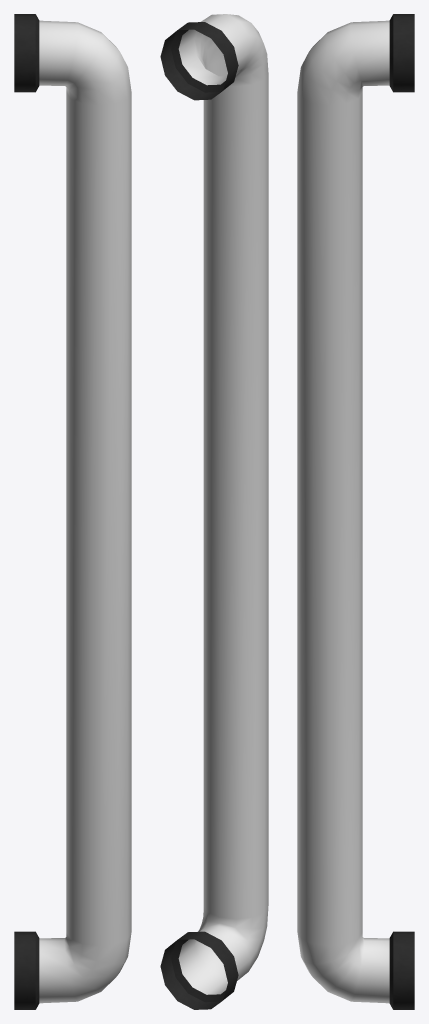
The model's file is LettersNeon01_I.FBX.
3 renders of one model, left to right at view 1: azimuth 90°, elevation 25°; view 2: azimuth 150°, elevation 25°; view 3: azimuth 270°, elevation 25°, orthographic.
Visible parts, largest first — view 1: LettersNeon01_I; view 2: LettersNeon01_I; view 3: LettersNeon01_I.
Boxes of the visible parts, box(x1,y1,x2,y2) form: LettersNeon01_I: box(14, 14, 131, 1009); LettersNeon01_I: box(160, 14, 268, 1009); LettersNeon01_I: box(297, 14, 414, 1009).
Size of what is drawn, in the model's own units: 0.0363 by 0.503 by 0.054.
